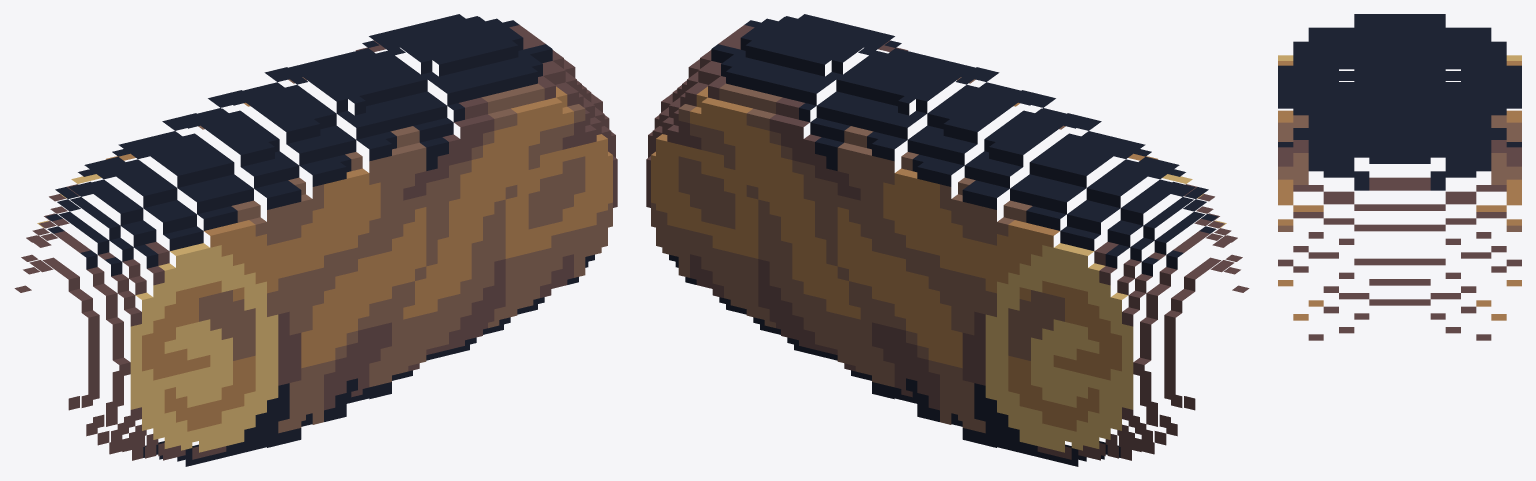
Rendered from madeira.glb.
The picture shows the model from 3 angles, left to right: view 1: azimuth 30°, elevation 25°; view 2: azimuth 150°, elevation 25°; view 3: azimuth 270°, elevation 25°; orthographic projection. The views are drawn at different scales.
Parts seen in each view (by area): view 1: q0; view 2: q0; view 3: q0.
Boxes of the visible parts, x1,y1,x2,y2 form: q0: [14, 14, 617, 466]; q0: [646, 14, 1249, 466]; q0: [1278, 14, 1521, 340].
Bounding box in the file's own units: 47 × 28 × 16.
1 material, 1 textured.
